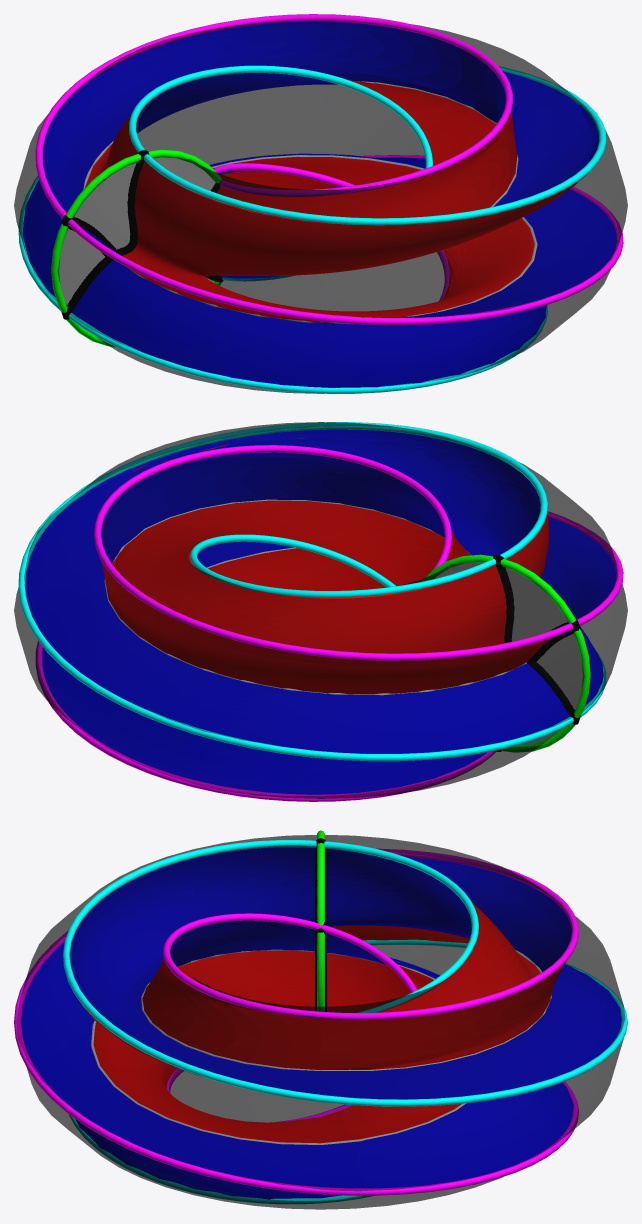
The model's file is adapted_l3_1_meridional_disk.glb.
3 renders of one model, top to bottom at view 1: azimuth 30°, elevation 25°; view 2: azimuth 150°, elevation 25°; view 3: azimuth 270°, elevation 25°, orthographic.
Parts seen in each view (by area): view 1: Torus, Circle_T_alt, boundary1, boundary2, meridional_disk_intersection, meridional_disk_intersection_bdry, intersection, sing; view 2: Torus, Circle_T_alt, boundary2, boundary1, meridional_disk_intersection, meridional_disk_intersection_bdry, intersection, sing; view 3: Torus, Circle_T_alt, boundary1, boundary2, sing, meridional_disk_intersection_bdry, intersection.
Part boxes in pixels (x1,y1,x2,y2): Torus: (14,21,627,393); Circle_T_alt: (22,21,616,387); boundary1: (35,14,623,325); boundary2: (18,65,606,393); meridional_disk_intersection: (59,157,215,304); meridional_disk_intersection_bdry: (51,149,221,346); intersection: (61,150,223,319); sing: (83,81,537,324); Torus: (14,422,627,798); Circle_T_alt: (25,429,615,794); boundary2: (18,422,605,761); boundary1: (36,445,623,801); meridional_disk_intersection: (435,562,582,745); meridional_disk_intersection_bdry: (422,554,590,752); intersection: (493,555,580,751); sing: (104,499,526,695); Torus: (17,835,624,1209); Circle_T_alt: (21,847,621,1199); boundary1: (14,849,578,1195); boundary2: (63,840,627,1203); sing: (91,949,551,1144); meridional_disk_intersection_bdry: (317,830,324,1011); intersection: (315,838,326,1011).
Bounding box in the file's own units: 3.02 × 1.06 × 3.02.
